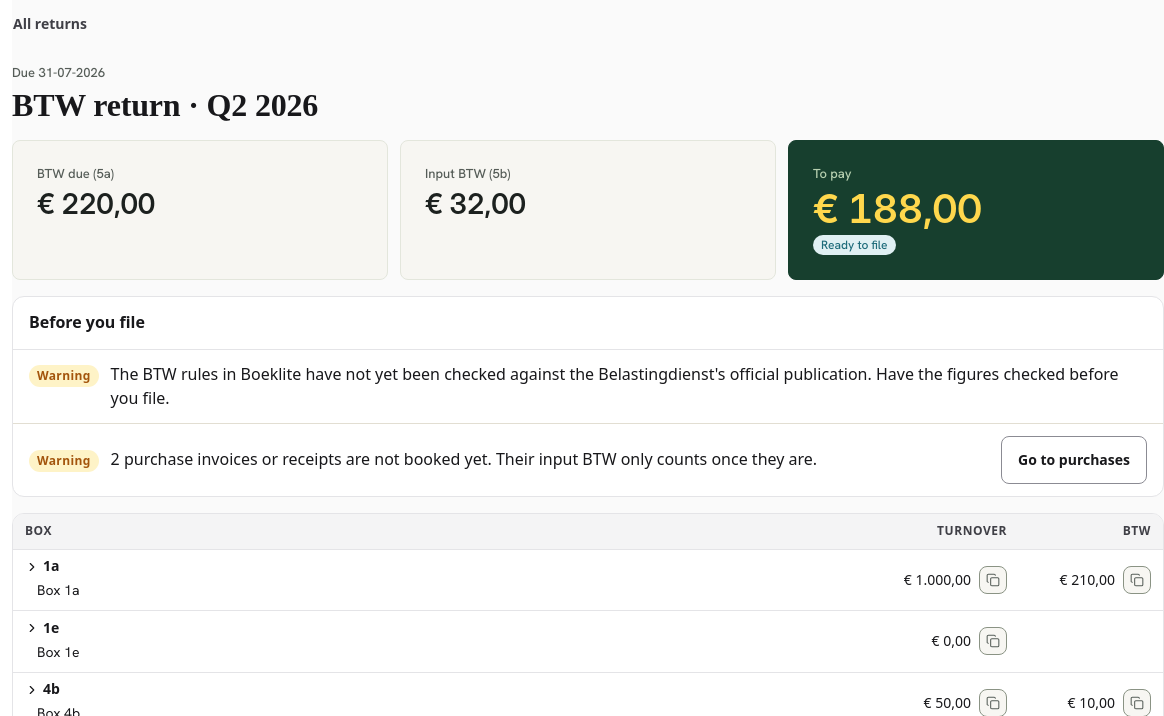
Test: one BTW return › drills a box down to the postings behind it
What coordinates should you click on to do the following:
click the button with test id "vat-box-toggle-1a"
I would click on:
 (32, 567)
Its box is [25,558,863,575].
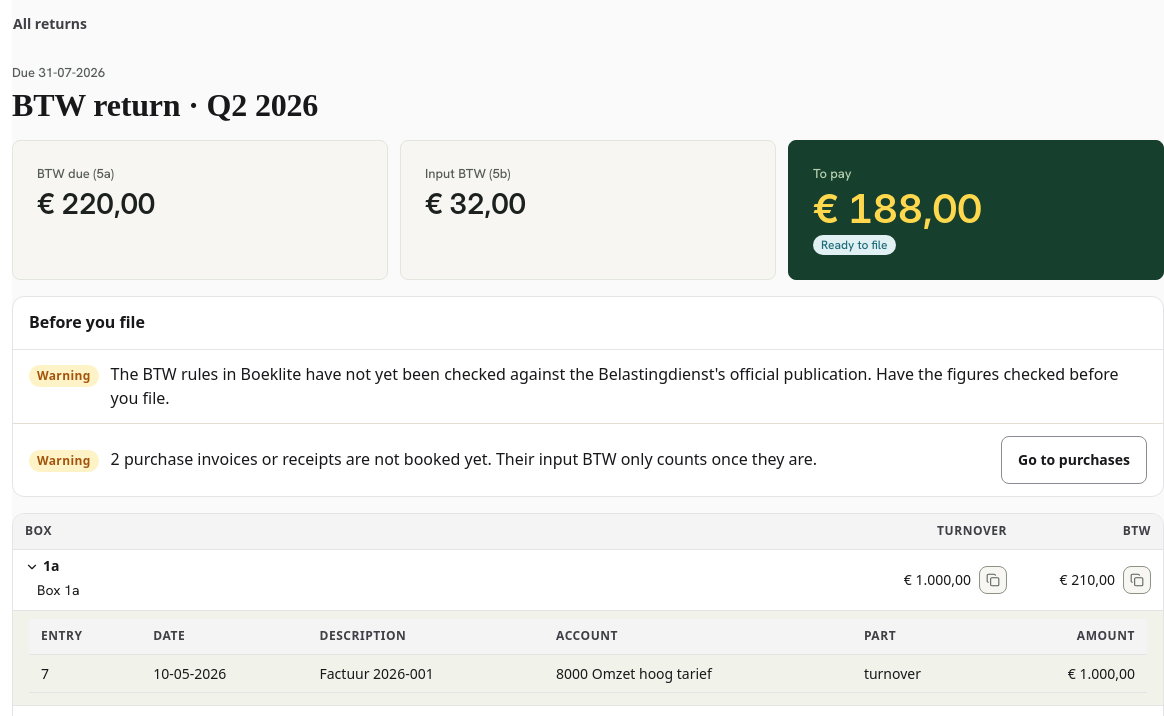
Now the table with test id "vat-drill-1a" shows "Factuur 2026-001", box [320,664,434,683]
